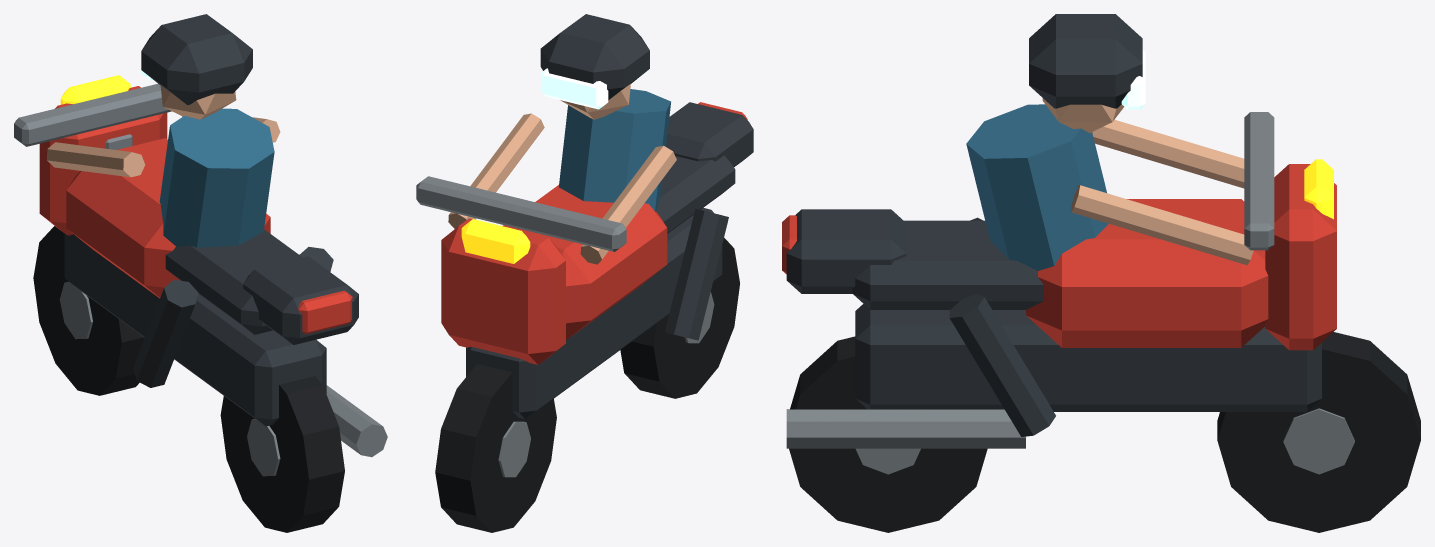
File: bike.glb
3 views of the same model, side by side, from view 1: azimuth 30°, elevation 25°; view 2: azimuth 150°, elevation 25°; view 3: azimuth 270°, elevation 25° (orthographic). The views are drawn at different scales.
Parts seen in each view (by area): view 1: BikeFrame, RiderTorso, Wheel.001, CarBodyTank, Wheel, RiderHelmet, Seat, Tail, Handlebar, CarBodyFairing, RiderLeg, RiderArm (+6 smaller); view 2: Wheel, CarBodyFairing, BikeFrame, RiderTorso, CarBodyTank, Wheel.001, Handlebar, RiderHelmet, RiderLeg, Tail, Seat, RiderArm (+5 smaller); view 3: BikeFrame, CarBodyTank, Wheel, RiderTorso, Wheel.001, Seat, CarBodyFairing, Exhaust, RiderHelmet, Tail, RiderLeg.001, RiderArm.001 (+6 smaller).
Boxes of the visible parts, x1=… form: BikeFrame: x1=64, y1=233, x2=326, y2=426; RiderTorso: x1=159, y1=108, x2=274, y2=247; Wheel.001: x1=220, y1=376, x2=344, y2=532; CarBodyTank: x1=66, y1=138, x2=270, y2=298; Wheel: x1=33, y1=226, x2=144, y2=395; RiderHelmet: x1=141, y1=14, x2=252, y2=105; Seat: x1=165, y1=229, x2=302, y2=334; Tail: x1=243, y1=256, x2=358, y2=344; Handlebar: x1=14, y1=83, x2=171, y2=146; CarBodyFairing: x1=39, y1=86, x2=167, y2=235; RiderLeg: x1=133, y1=279, x2=198, y2=387; RiderArm: x1=47, y1=142, x2=145, y2=177; Wheel: x1=435, y1=364, x2=556, y2=532; CarBodyFairing: x1=441, y1=218, x2=565, y2=364; BikeFrame: x1=466, y1=208, x2=722, y2=419; RiderTorso: x1=559, y1=89, x2=670, y2=211; CarBodyTank: x1=502, y1=185, x2=667, y2=340; Wheel.001: x1=620, y1=237, x2=739, y2=398; Handlebar: x1=416, y1=176, x2=626, y2=251; RiderHelmet: x1=540, y1=14, x2=649, y2=100; RiderLeg: x1=665, y1=209, x2=728, y2=340; Tail: x1=666, y1=102, x2=753, y2=166; Seat: x1=656, y1=155, x2=735, y2=233; RiderArm: x1=580, y1=145, x2=676, y2=264; BikeFrame: x1=855, y1=304, x2=1321, y2=411; CarBodyTank: x1=1026, y1=199, x2=1268, y2=347; Wheel: x1=1217, y1=332, x2=1420, y2=532; RiderTorso: x1=966, y1=104, x2=1108, y2=270; Wheel.001: x1=789, y1=336, x2=987, y2=532; Seat: x1=852, y1=220, x2=1043, y2=309; CarBodyFairing: x1=1265, y1=164, x2=1336, y2=350; Exhaust: x1=786, y1=409, x2=1025, y2=448; RiderHelmet: x1=1029, y1=14, x2=1142, y2=108; Tail: x1=786, y1=209, x2=906, y2=293; RiderLeg.001: x1=949, y1=293, x2=1055, y2=436; RiderArm.001: x1=1071, y1=185, x2=1253, y2=265.
Size of the model in its own units: 0.92 by 1.83 by 2.13.
